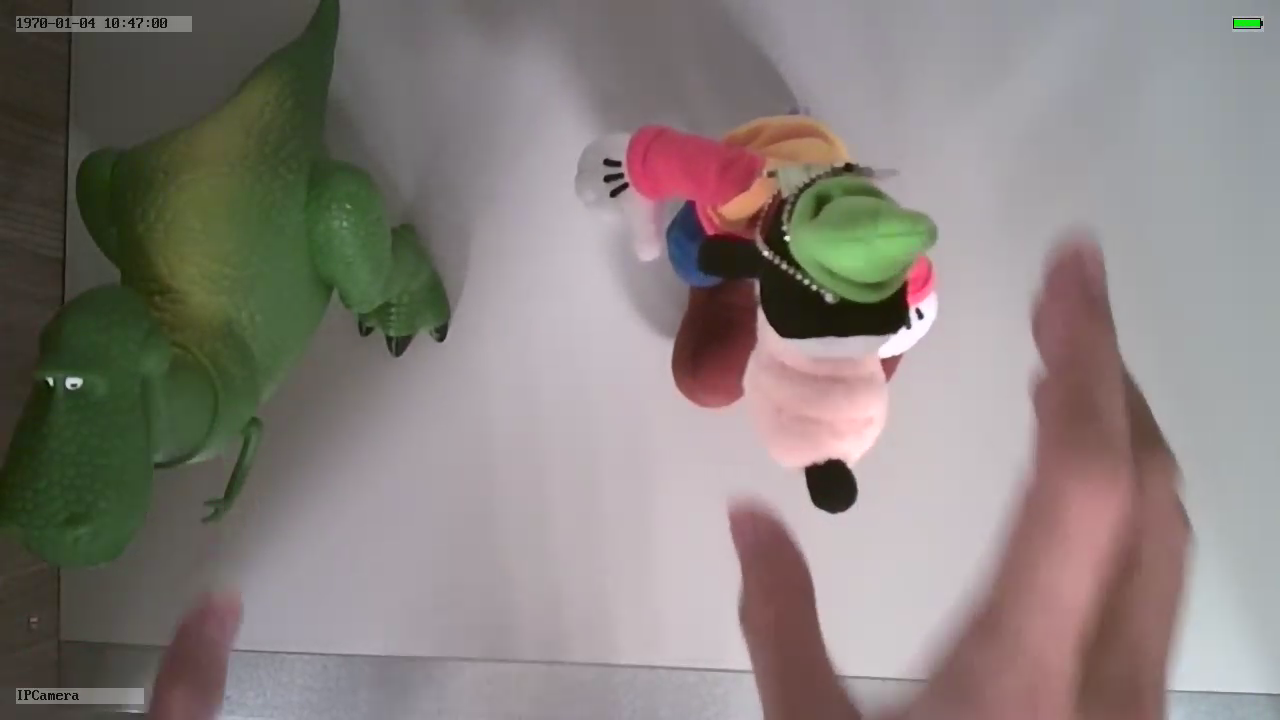goofy: (568, 112, 948, 511)
